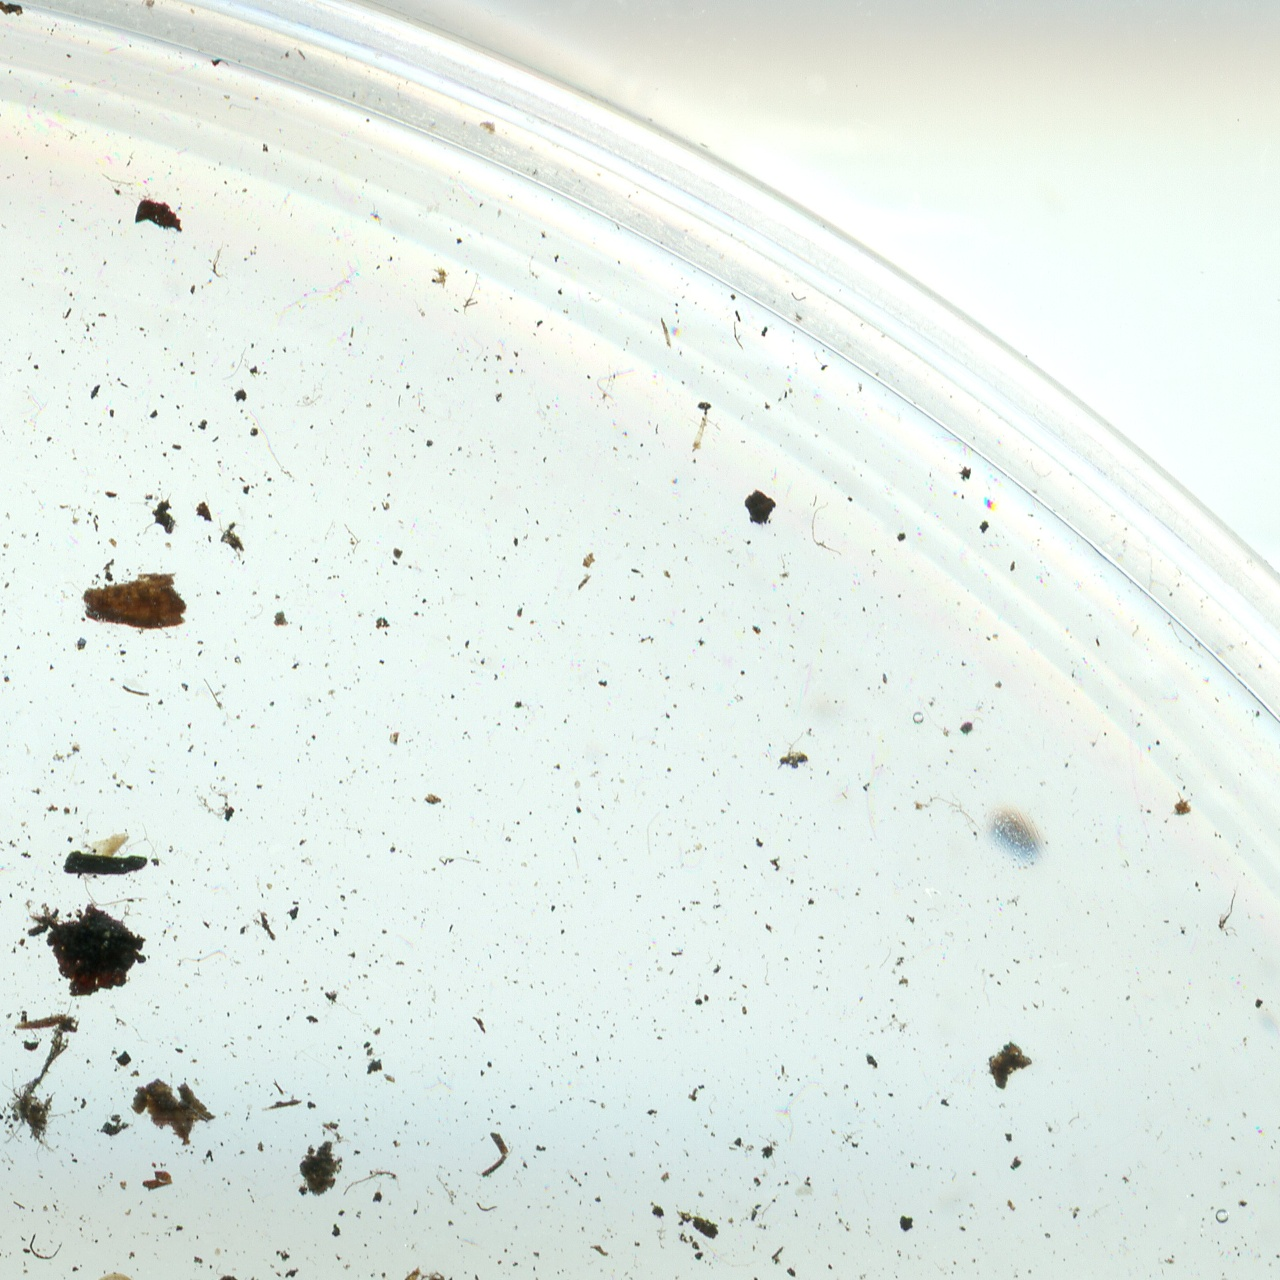arthropod: (407, 1260, 477, 1280)
